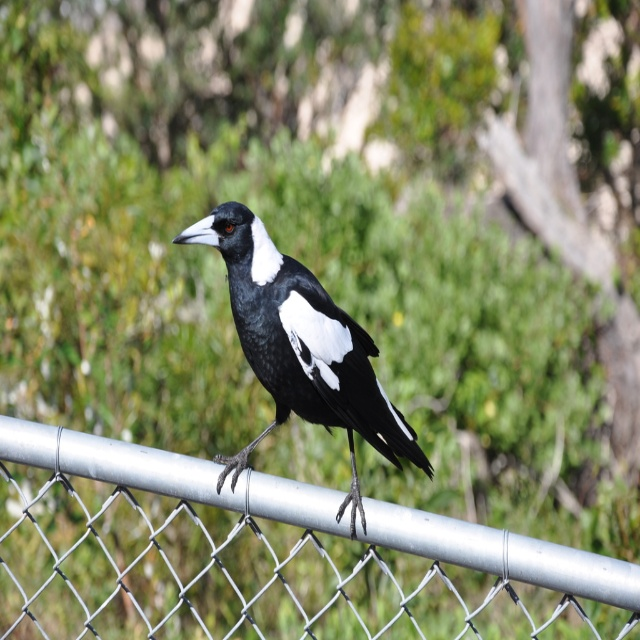Magpie: (172, 201, 435, 541)
